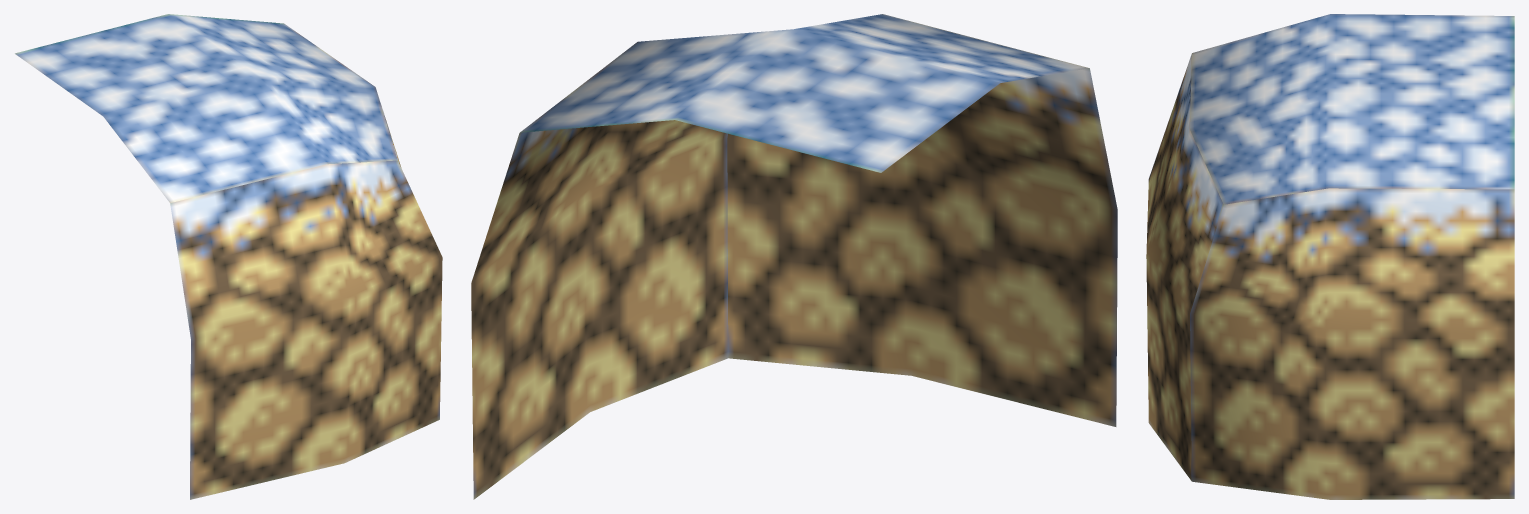
The model's file is snowDTile_groundCorner_lowerRight.fbx.
3 views of the same model, side by side, from view 1: azimuth 30°, elevation 25°; view 2: azimuth 150°, elevation 25°; view 3: azimuth 270°, elevation 25° (orthographic). The views are drawn at different scales.
Visible parts, largest first — view 1: snowDTile_groundCorner_lowerRight; view 2: snowDTile_groundCorner_lowerRight; view 3: snowDTile_groundCorner_lowerRight.
Part boxes in pixels (bbox=[...]): snowDTile_groundCorner_lowerRight: bbox=[15, 14, 442, 499]; snowDTile_groundCorner_lowerRight: bbox=[471, 14, 1117, 499]; snowDTile_groundCorner_lowerRight: bbox=[1146, 14, 1514, 499].
Size of the model in its own units: 1.01 by 1.01 by 1.01.
